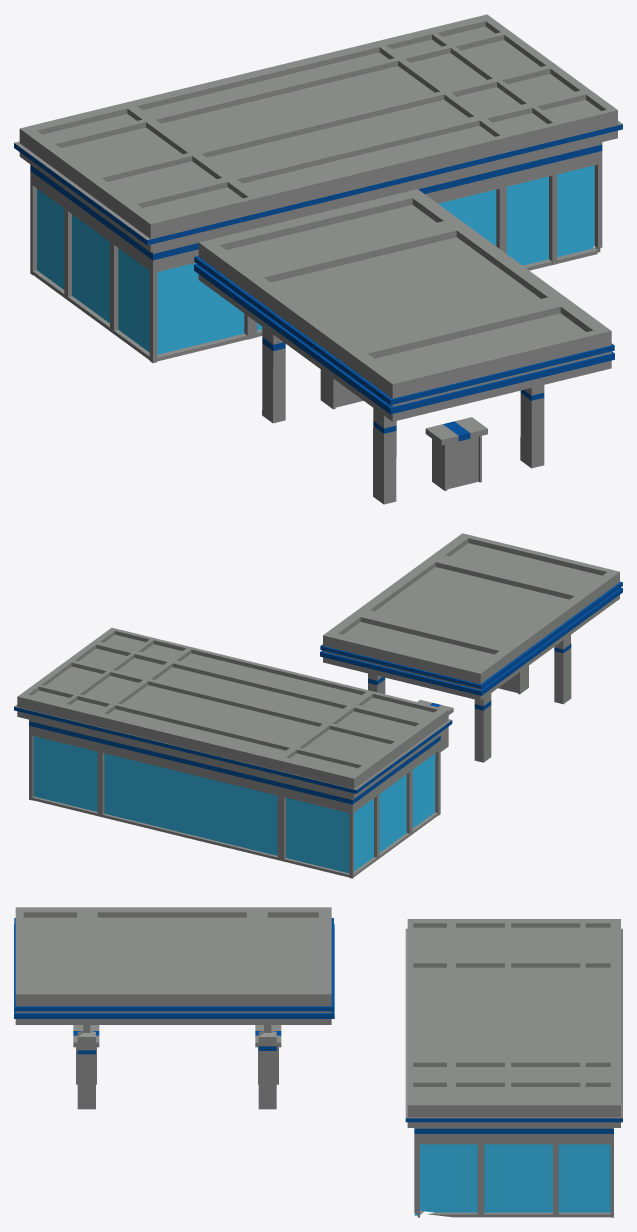
Rendered from D_stacja bezynowa.fbx.
3 renders of one model, top to bottom at view 1: azimuth 30°, elevation 25°; view 2: azimuth 150°, elevation 25°; view 3: azimuth 270°, elevation 25°, orthographic. The views are drawn at different scales.
Parts seen in each view (by area): view 1: dach, stacja.004, stacja, stacja.032, stacja.012, stacja.025, stacja.001, dach.003, dach.012, stacja.003, stacja.010, dach.005 (+23 smaller); view 2: dach, stacja.007, stacja.004, stacja, stacja.001, stacja.002, stacja.012, dach.012, stacja.037, stacja.032, dach.003, stacja.025 (+21 smaller); view 3: dach, stacja, dach.003, stacja.004, stacja.001, stacja.012, dach.012, stacja.025, stacja.032, stacja.008, stacja.002, stacja.019 (+18 smaller).
Boxes of the visible parts, x1,y1,x2,y2 form: dach: (221,198,614,421); stacja.004: (29,126,261,361); stacja: (30,52,621,363); stacja.032: (358,110,622,204); stacja.012: (117,124,328,335); stacja.025: (250,118,409,210); stacja.001: (54,182,229,303); dach.003: (334,191,547,301); dach.012: (295,240,486,307); stacja.003: (440,154,602,238); stacja.010: (14,127,112,332); dach.005: (194,225,292,312); dach: (338,533,622,700); stacja.007: (169,741,309,862); stacja.004: (314,693,448,834); stacja: (71,628,440,878); stacja.001: (29,717,452,813); stacja.002: (14,686,147,827); stacja.012: (260,682,379,757); dach.012: (418,584,514,649); stacja.037: (290,762,354,874); stacja.032: (111,627,263,695); dach.003: (325,560,442,646); stacja.025: (219,665,334,724); dach: (14,907,334,1024); stacja: (407,1024,593,1217); dach.003: (90,955,328,1024); stacja.004: (405,919,604,969); stacja.001: (405,928,613,1217); stacja.012: (405,949,586,997); dach.012: (118,928,292,982); stacja.025: (405,982,538,1033); stacja.032: (405,1020,500,1136); stacja.008: (489,1069,591,1137); stacja.002: (551,1054,622,1138); stacja.019: (416,1162,479,1217).
Bounding box in the file's own units: 921 × 294 × 1252.
